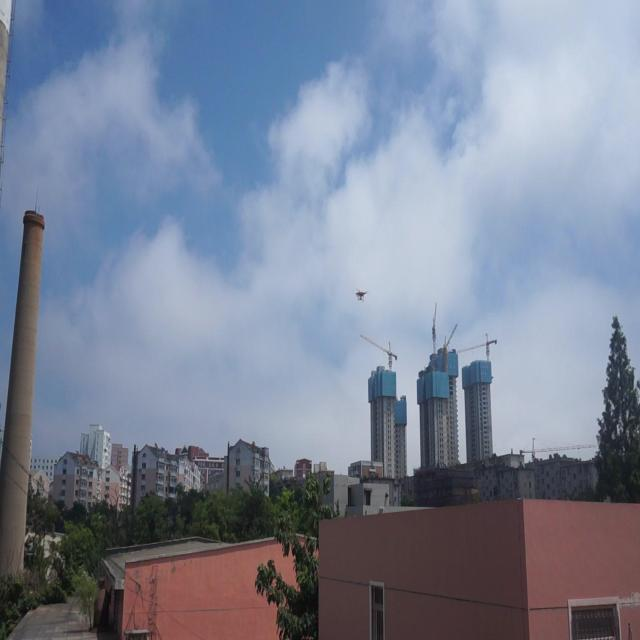drone: (353, 286, 366, 304)
